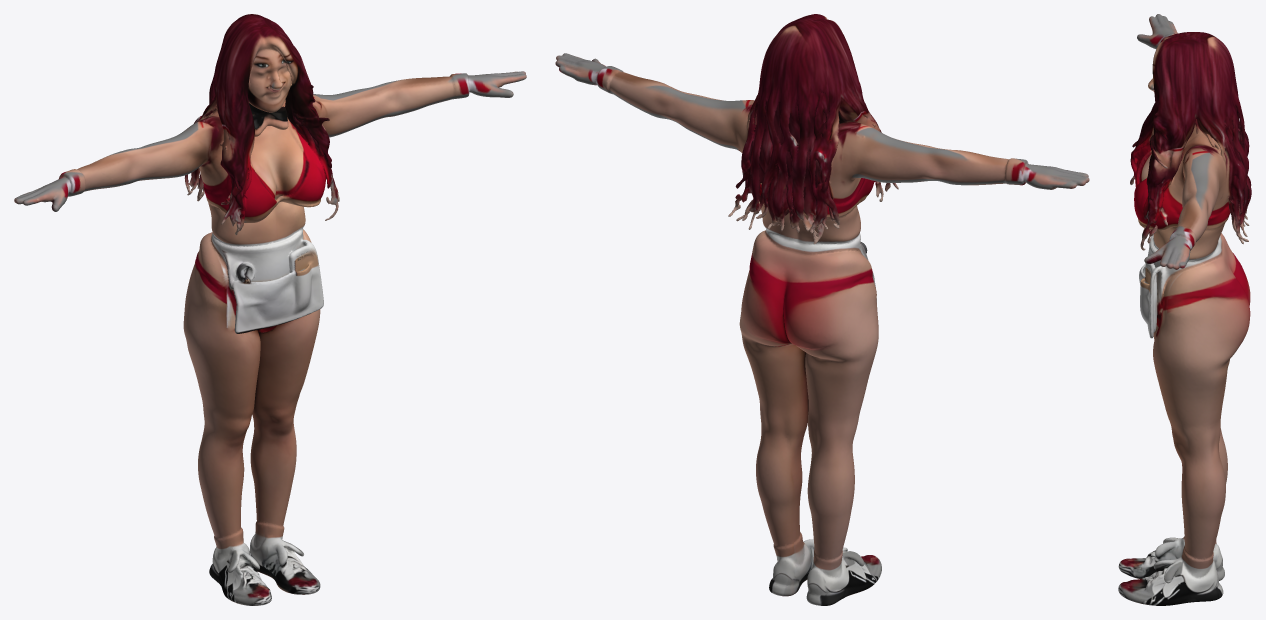
The model's file is bartender.glb.
The picture shows the model from 3 angles, left to right: view 1: azimuth 30°, elevation 25°; view 2: azimuth 150°, elevation 25°; view 3: azimuth 270°, elevation 25°; orthographic projection. The views are drawn at different scales.
Parts seen in each view (by area): view 1: tripo_node_22357f52-54ee-4ee5-a467-b5651cd50c4a; view 2: tripo_node_22357f52-54ee-4ee5-a467-b5651cd50c4a; view 3: tripo_node_22357f52-54ee-4ee5-a467-b5651cd50c4a.
Part boxes in pixels (x1,y1,x2,y2): tripo_node_22357f52-54ee-4ee5-a467-b5651cd50c4a: (14, 14, 526, 605); tripo_node_22357f52-54ee-4ee5-a467-b5651cd50c4a: (555, 14, 1089, 605); tripo_node_22357f52-54ee-4ee5-a467-b5651cd50c4a: (1118, 14, 1251, 605).
Bounding box in the file's own units: 0.9669 × 1 × 0.2177.
Materials: 1 (1 with a texture image).
